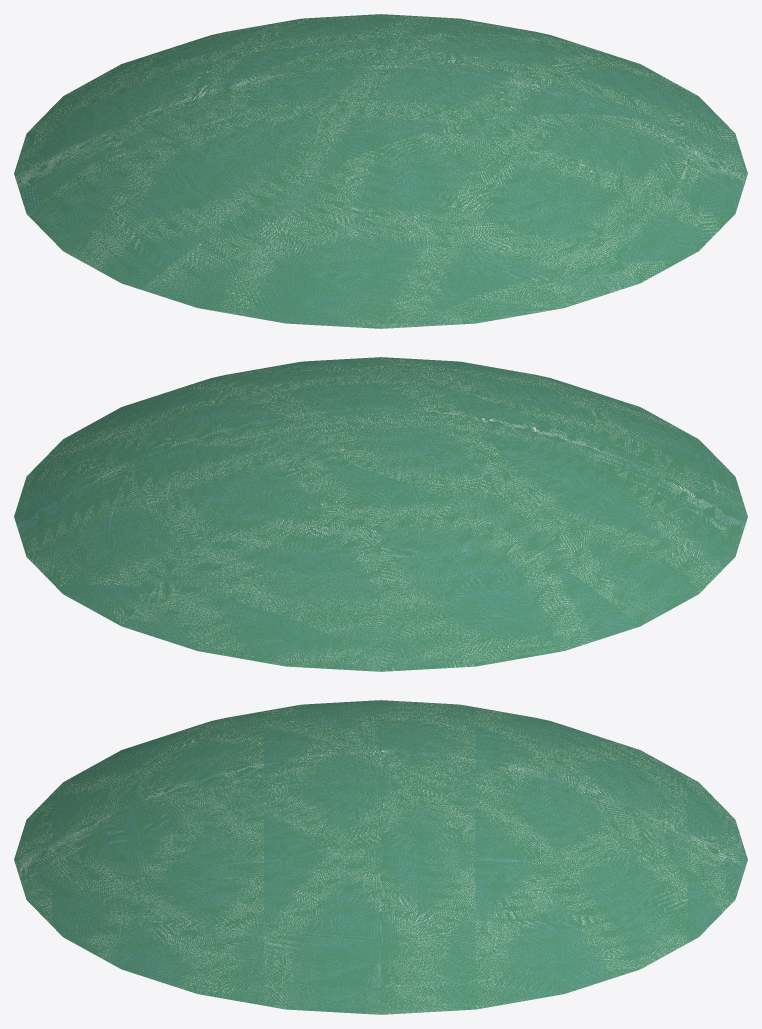
The model's file is 中国尊11.dae.
3 views of the same model, one above another, from view 1: azimuth 30°, elevation 25°; view 2: azimuth 150°, elevation 25°; view 3: azimuth 270°, elevation 25° (orthographic).
Visible parts, largest first — view 1: SketchUp; view 2: SketchUp; view 3: SketchUp.
Boxes of the visible parts, left/top/right/bottom form: SketchUp: left=14, top=14, right=747, bottom=328; SketchUp: left=14, top=357, right=747, bottom=671; SketchUp: left=14, top=700, right=747, bottom=1014.
Size of the model in its own units: 1139 by 1139 by 168.
